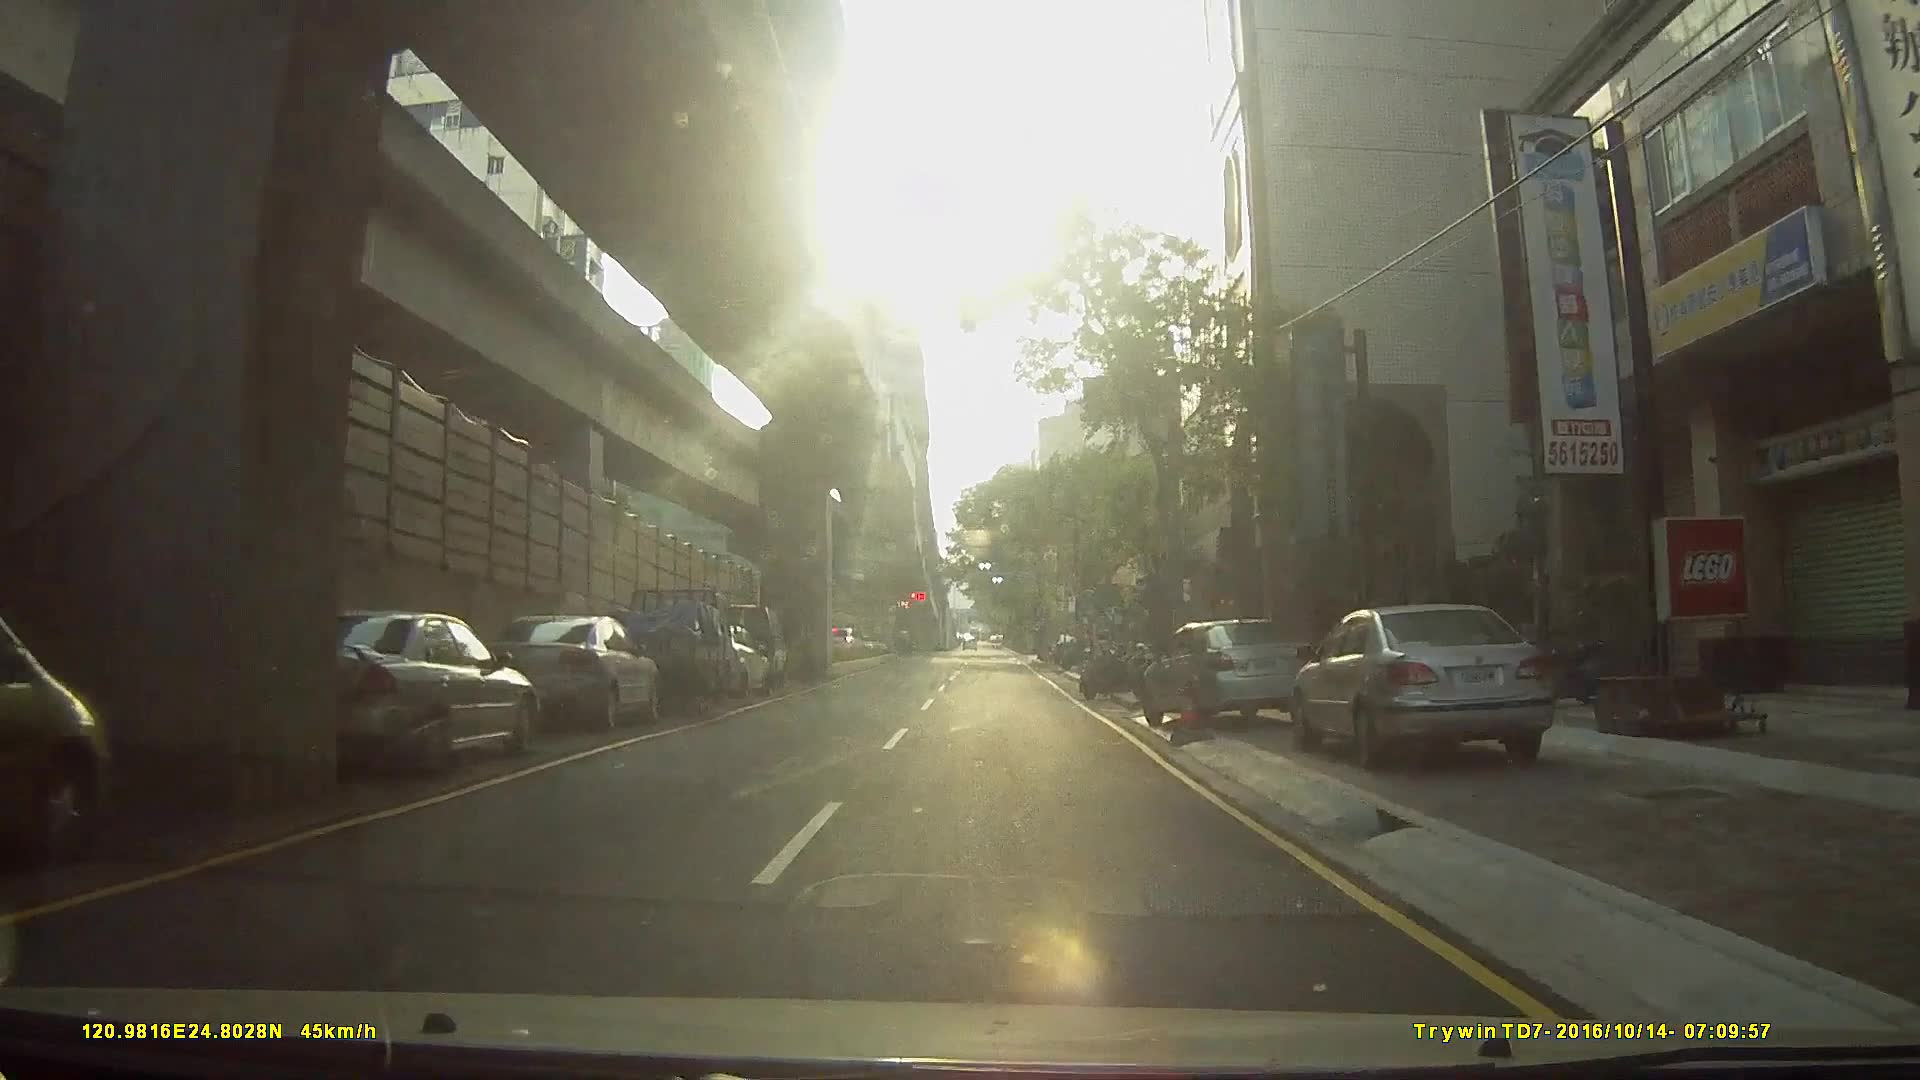rider: (1081, 627, 1146, 701)
vehicle: (263, 607, 542, 787), (1295, 598, 1575, 768), (1, 608, 130, 874), (473, 611, 676, 732), (1141, 610, 1323, 729), (596, 582, 733, 714)
